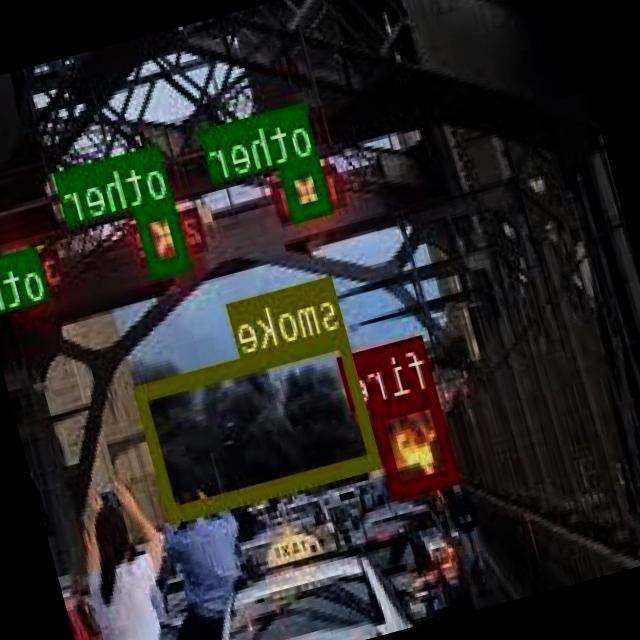fire: (370, 387, 460, 494)
smoke: (134, 326, 382, 521)
